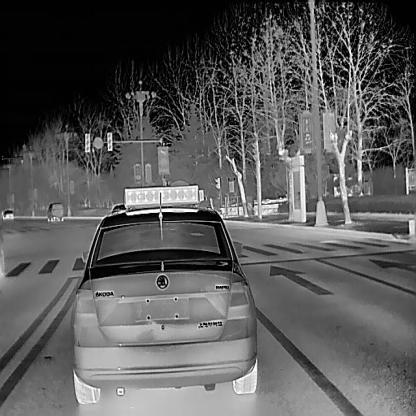car: (72, 183, 256, 403), (47, 202, 64, 220), (1, 208, 14, 219)
